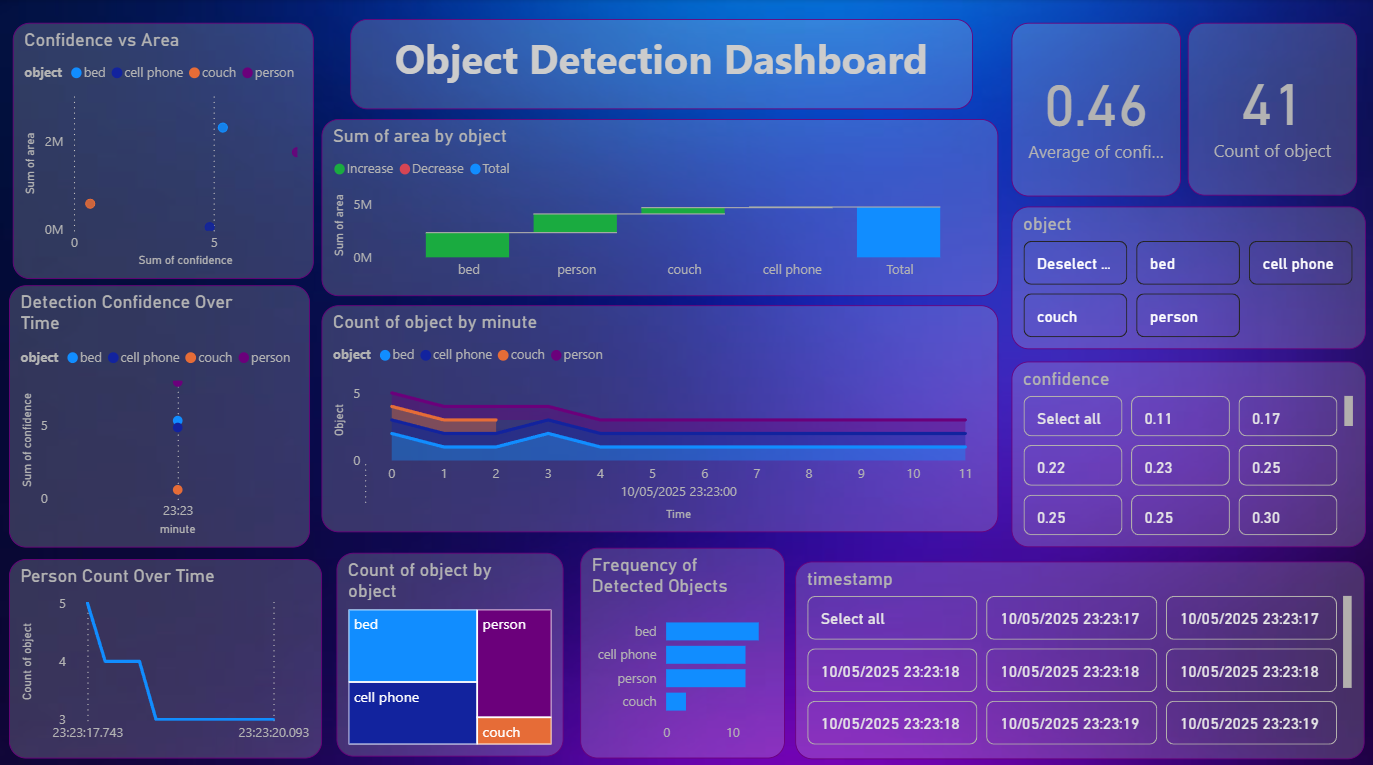

Layout of this report page (visuals, bound fields, positions):
{"tool":"powerbi","page":{"name":"Page 1","canvas":[1280,720],"ordinal":0},"visuals":[{"type":"clusteredBarChart","title":"Frequency of Detected Objects","fields":{"Category":["detection_data.object"],"Y":["CountNonNull(detection_data.object)"]},"box":[540.7,510.5,190.7,196.2],"z":0},{"type":"lineChart","title":"Detection Confidence Over Time","fields":{"Series":["detection_data.object"],"Category":["detection_data.minute"],"Y":["Sum(detection_data.confidence)"]},"box":[9.6,266.2,279.9,244.3],"z":1000},{"type":"scatterChart","title":"Confidence vs Area","fields":{"X":["Sum(detection_data.confidence)"],"Y":["Sum(detection_data.area)"],"Series":["detection_data.object"]},"box":[12.3,22,279.9,238.8],"z":2000},{"type":"lineChart","title":"Person Count Over Time","fields":{"Category":["detection_data.timestamp"],"Y":["CountNonNull(detection_data.object)"]},"box":[9.6,521.4,290.9,185.2],"z":3000},{"type":"card","title":"Total Detections","fields":{"Values":["CountNonNull(detection_data.object)"]},"box":[1106,22,157.8,160.5],"z":4000},{"type":"advancedSlicerVisual","fields":{"Values":["detection_data.object"]},"box":[941.3,193.5,329.3,133.1],"z":5000},{"type":"advancedSlicerVisual","fields":{"Values":["detection_data.timestamp"]},"box":[741,522.8,529.7,183.9],"z":6000},{"type":"advancedSlicerVisual","fields":{"Values":["detection_data.confidence"]},"box":[941.3,337.6,329.3,172.9],"z":7000},{"type":"treemap","fields":{"Group":["detection_data.object"],"Values":["CountNonNull(detection_data.object)"]},"box":[314.2,514.6,211.3,189.4],"z":8000},{"type":"stackedAreaChart","title":"Count of object by minute","fields":{"Category":["detection_data.minute","detection_data.frame_id"],"Y":["CountNonNull(detection_data.object)"],"Series":["detection_data.object"]},"box":[300.5,285.4,629.8,211.3],"z":9000},{"type":"waterfallChart","fields":{"Category":["detection_data.object"],"Y":["Sum(detection_data.area)"]},"box":[300.5,111.1,629.8,164.7],"z":10000},{"type":"card","title":"Total Detections","fields":{"Values":["Avg(detection_data.confidence)"]},"box":[941.3,22,157.8,161.9],"z":11000},{"type":"textbox","box":[326.7,18.6,579.1,83.7],"z":12000}]}

Visuals, with their boxes in screenshot pixels (x1, y1, x2, y2), scaled from the page's 1280x720 canvas onto the 1373x765 screenshot:
"Frequency of Detected Objects" clusteredBarChart: rect(580, 542, 785, 751)
"Detection Confidence Over Time" lineChart: rect(10, 283, 311, 542)
"Confidence vs Area" scatterChart: rect(13, 23, 313, 277)
"Person Count Over Time" lineChart: rect(10, 554, 322, 751)
"Total Detections" card: rect(1186, 23, 1356, 194)
advancedSlicerVisual - detection_data.object: rect(1010, 206, 1363, 347)
advancedSlicerVisual - detection_data.timestamp: rect(795, 555, 1363, 751)
advancedSlicerVisual - detection_data.confidence: rect(1010, 359, 1363, 542)
treemap - detection_data.object x CountNonNull(detection_data.object): rect(337, 547, 564, 748)
"Count of object by minute" stackedAreaChart: rect(322, 303, 998, 528)
waterfallChart - detection_data.object x Sum(detection_data.area): rect(322, 118, 998, 293)
"Total Detections" card: rect(1010, 23, 1179, 195)
textbox: rect(350, 20, 972, 109)
